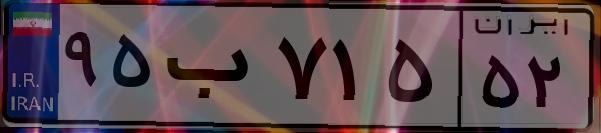1: (330, 28, 385, 110)
2: (525, 38, 570, 115)
5: (385, 28, 445, 110), (475, 38, 525, 113), (110, 28, 158, 98)
7: (270, 28, 330, 110)
9: (57, 26, 110, 100)
ب: (158, 20, 270, 120)
